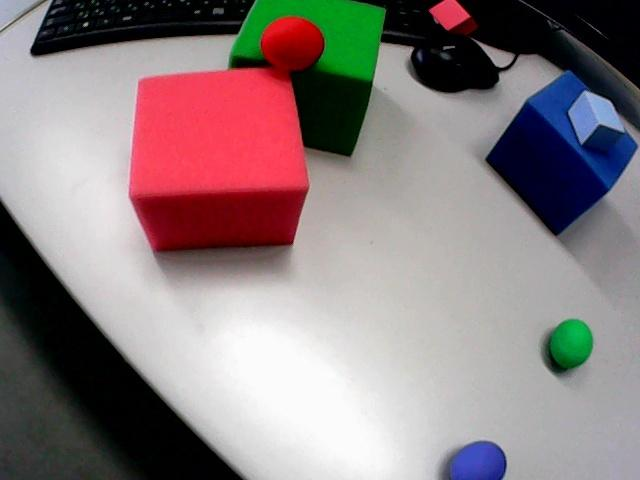blue_block: (487, 71, 636, 233), (568, 91, 624, 150)
red_block: (129, 68, 308, 249), (429, 0, 476, 34)
